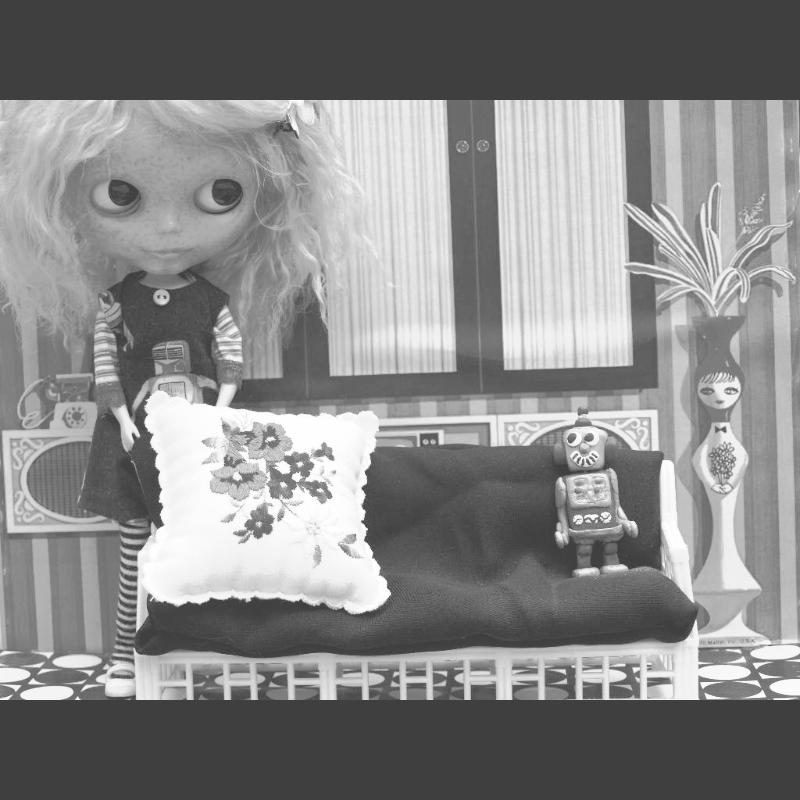pillow: (157, 405, 393, 623)
